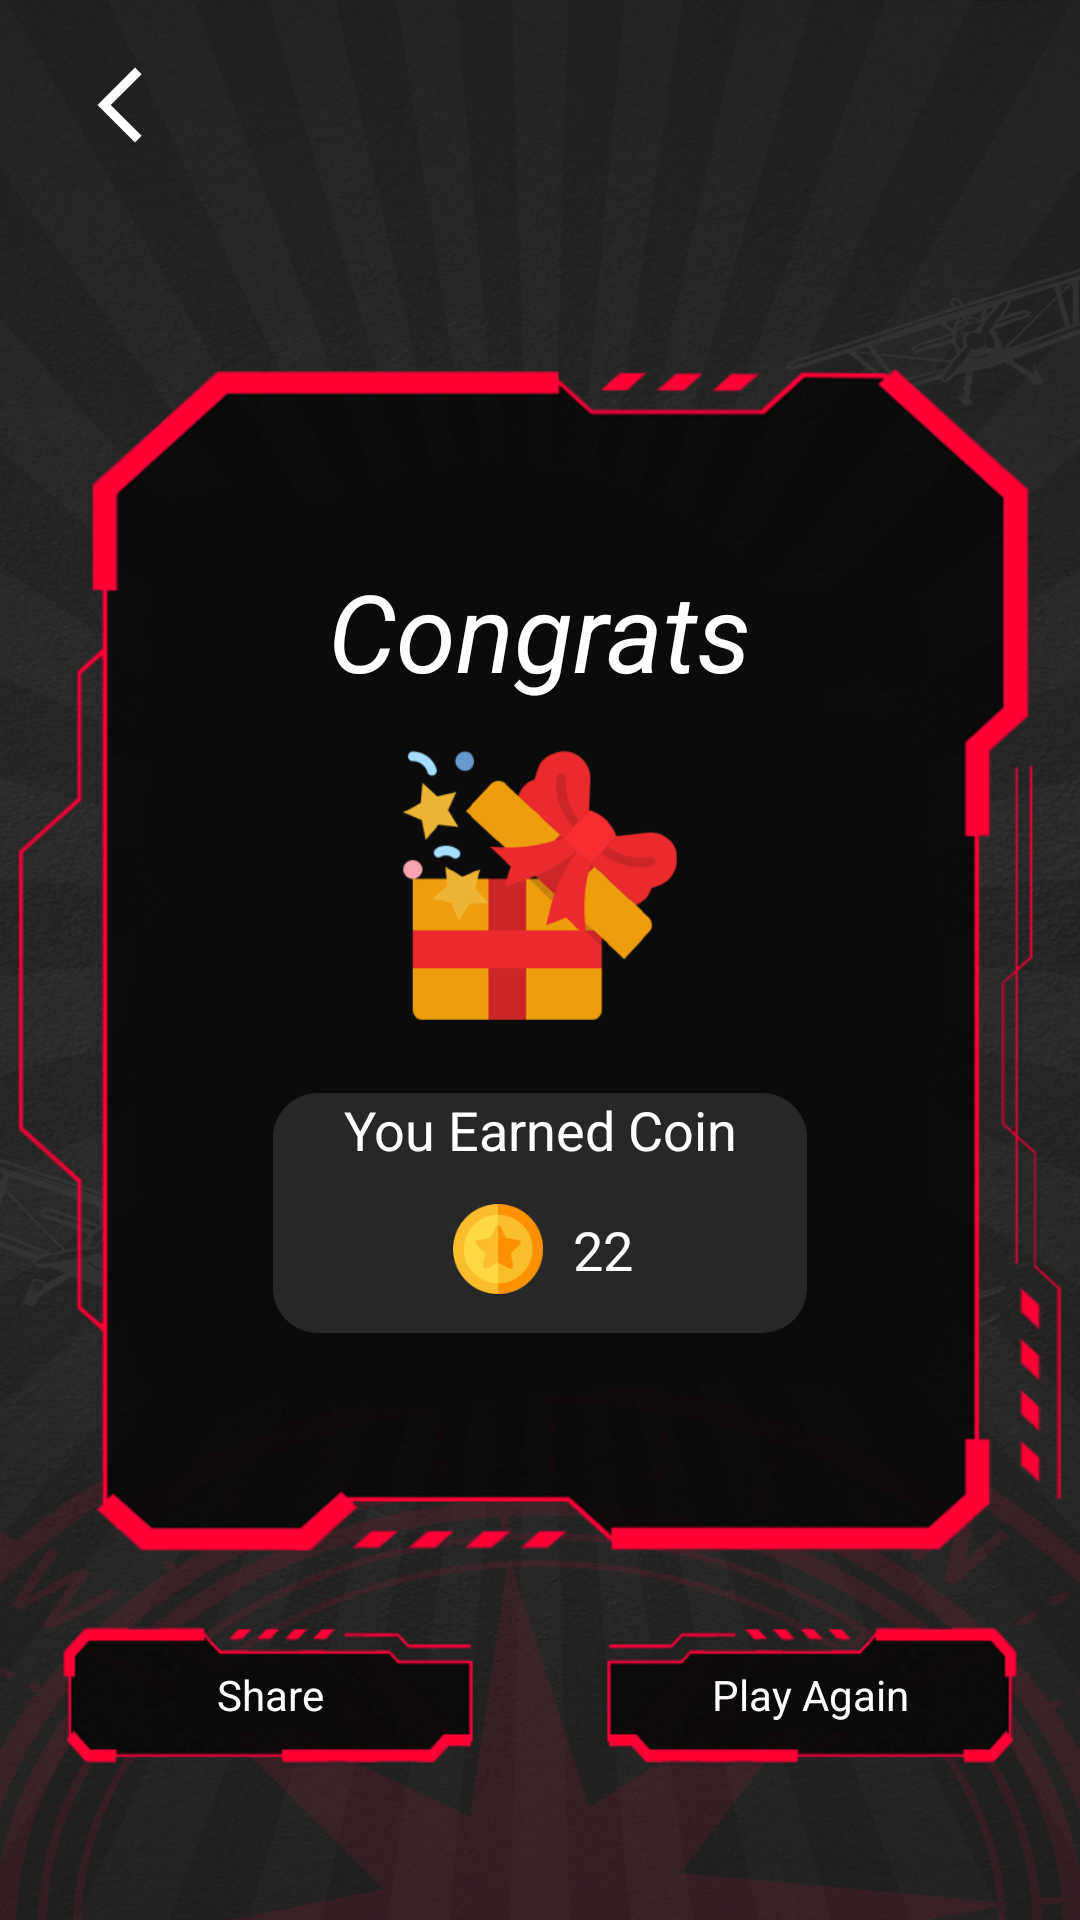

Locate icon controls on the screen. Image size 1080x1920, boxes as (x1, y1, x2, y2).
back arrow: (97, 67, 142, 143)
gift box: (403, 751, 677, 1020)
